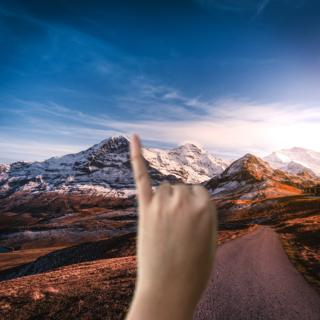FINE: (122, 132, 224, 297)
